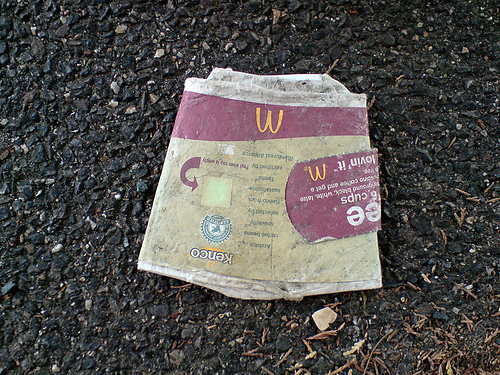litter: (134, 68, 387, 301)
